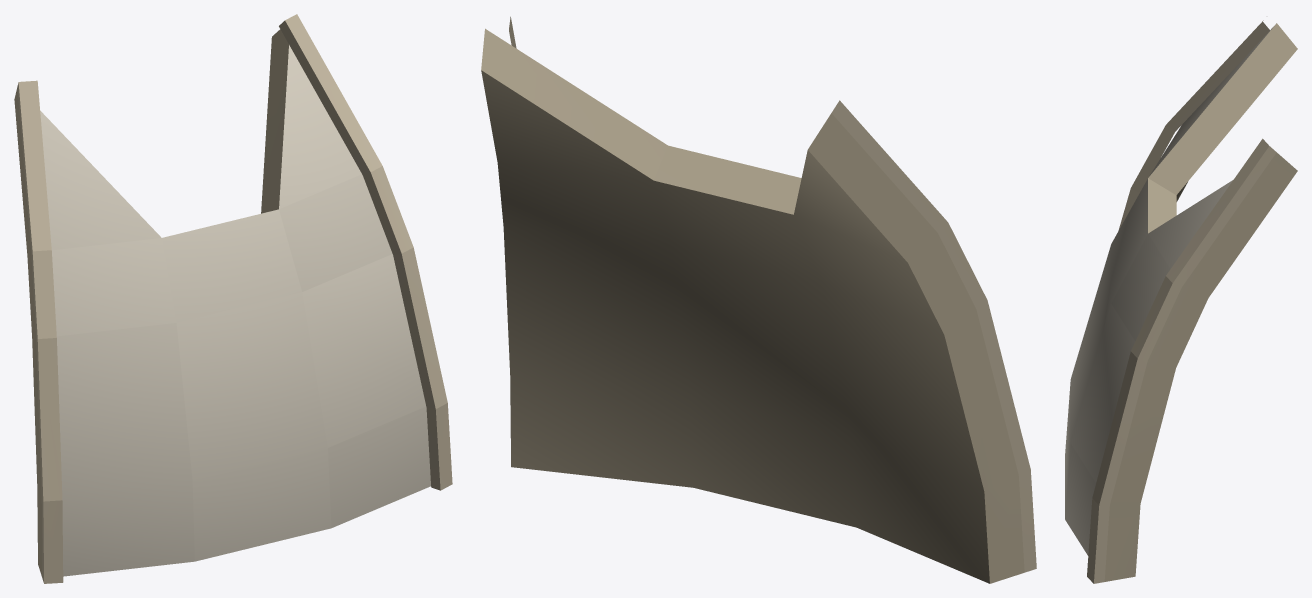
File: dome.panel_8_broken.plaster.glb
3 renders of one model, left to right at view 1: azimuth 30°, elevation 25°; view 2: azimuth 150°, elevation 25°; view 3: azimuth 270°, elevation 25°, orthographic. The views are drawn at different scales.
Parts seen in each view (by area): view 1: dome_panel_8_broken_plaster; view 2: dome_panel_8_broken_plaster; view 3: dome_panel_8_broken_plaster.
Part boxes in pixels (<box>): dome_panel_8_broken_plaster: <box>14,14,452,583</box>; dome_panel_8_broken_plaster: <box>481,16,1036,583</box>; dome_panel_8_broken_plaster: <box>1065,20,1297,583</box>.
Size of what is drawn, in the model's own units: 2.73 by 2.68 by 1.39.
